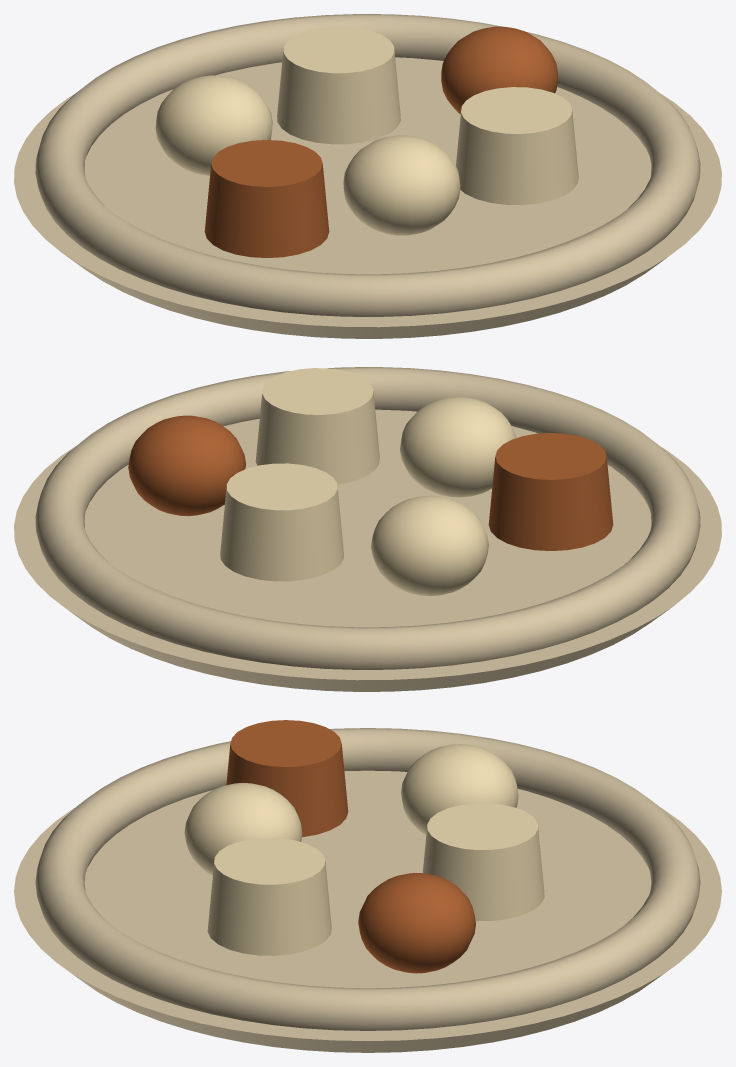
File: bangla-sweets.glb
3 renders of one model, top to bottom at view 1: azimuth 30°, elevation 25°; view 2: azimuth 150°, elevation 25°; view 3: azimuth 270°, elevation 25°, orthographic.
Parts seen in each view (by area): view 1: plate-base, raised-rim, sweet-1, sweet-5, sweet-3, sweet-2, sweet-6, sweet-4; view 2: plate-base, raised-rim, sweet-1, sweet-5, sweet-3, sweet-6, sweet-4, sweet-2; view 3: plate-base, raised-rim, sweet-3, sweet-5, sweet-1, sweet-4, sweet-6, sweet-2.
Boxes of the visible parts, bbox=[...] form: plate-base: bbox=[14, 57, 721, 338]; raised-rim: bbox=[35, 14, 700, 316]; sweet-1: bbox=[204, 140, 329, 257]; sweet-5: bbox=[277, 26, 400, 144]; sweet-3: bbox=[456, 87, 578, 205]; sweet-2: bbox=[343, 135, 460, 235]; sweet-6: bbox=[155, 75, 272, 175]; sweet-4: bbox=[441, 26, 557, 114]; plate-base: bbox=[14, 409, 721, 691]; raised-rim: bbox=[35, 367, 700, 669]; sweet-1: bbox=[488, 433, 613, 550]; sweet-5: bbox=[220, 463, 343, 581]; sweet-3: bbox=[255, 368, 379, 484]; sweet-6: bbox=[371, 495, 488, 596]; sweet-4: bbox=[128, 415, 245, 516]; sweet-2: bbox=[400, 397, 516, 497]; plate-base: bbox=[14, 770, 721, 1052]; raised-rim: bbox=[35, 728, 700, 1030]; sweet-3: bbox=[207, 838, 331, 955]; sweet-5: bbox=[422, 803, 544, 921]; sweet-1: bbox=[226, 720, 348, 837]; sweet-4: bbox=[358, 873, 475, 973]; sweet-6: bbox=[401, 744, 518, 834]; sweet-2: bbox=[184, 783, 302, 875].
Size of the model in its own units: 2.16 by 0.3776 by 2.16.
